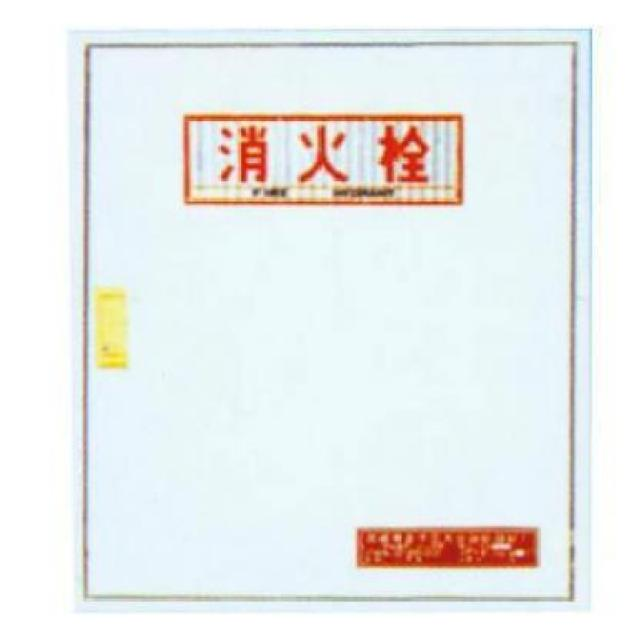firehydrant: (62, 20, 599, 618)
